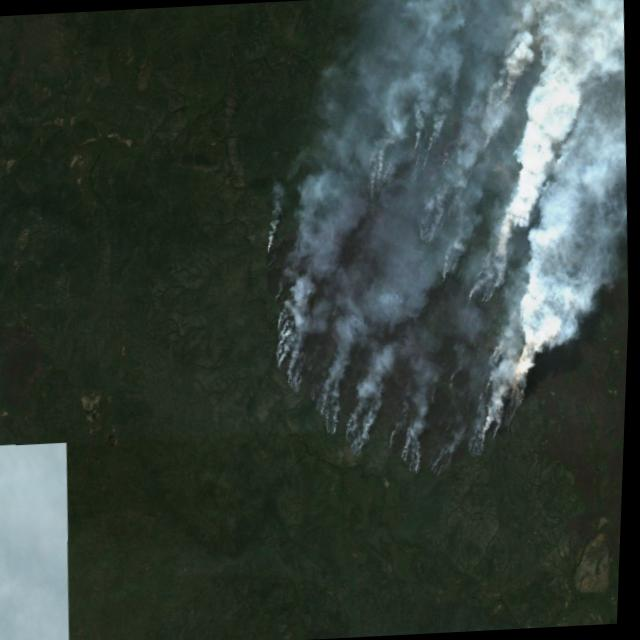fire: (234, 24, 564, 495)
